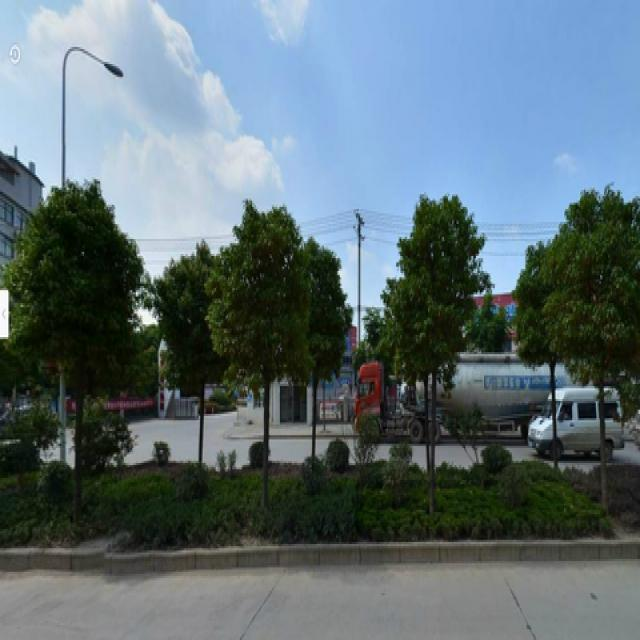cinn: (25, 213, 111, 506), (558, 190, 630, 503), (399, 220, 460, 495), (228, 220, 287, 503), (159, 262, 216, 495), (308, 241, 351, 474), (513, 250, 555, 467)
